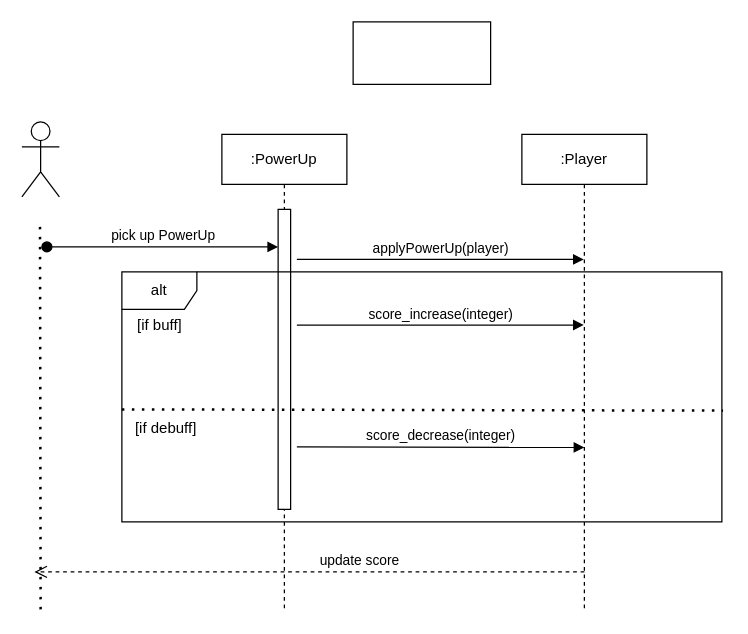
The diagram is 748 pixels wide and 634 high, and some of its shapes have lost their labels. Each missing label, with the centre of its shape:
Actor: (x=40, y=159)
Use Case: Use PowerUp: (x=421, y=52)
